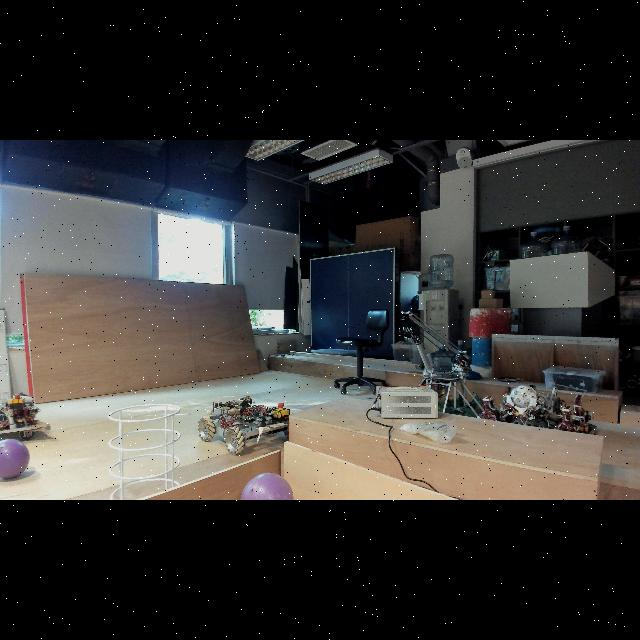P: (238, 470, 298, 500), (1, 438, 32, 480)
S: (107, 402, 183, 500)
